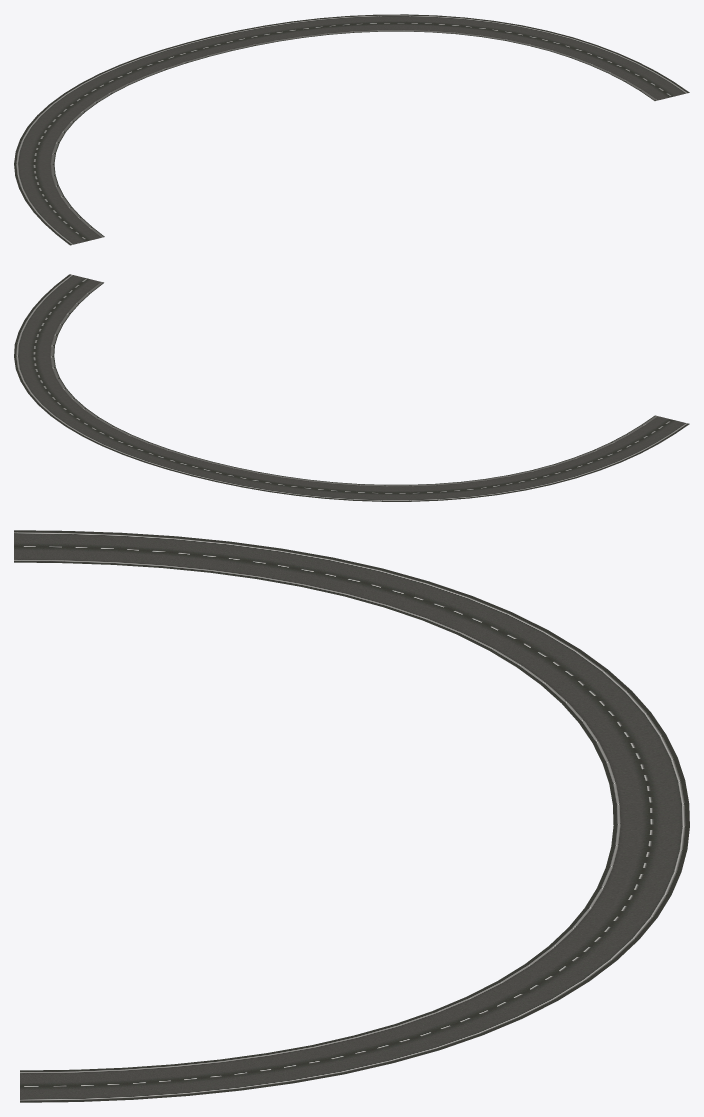
File: BigSving.fbx
3 renders of one model, top to bottom at view 1: azimuth 30°, elevation 25°; view 2: azimuth 150°, elevation 25°; view 3: azimuth 270°, elevation 25°, orthographic. The views are drawn at different scales.
Parts seen in each view (by area): view 1: Plane.005; view 2: Plane.005; view 3: Plane.005.
Part boxes in pixels (bbox=[...]): Plane.005: bbox=[14, 14, 689, 245]; Plane.005: bbox=[14, 274, 689, 501]; Plane.005: bbox=[14, 530, 689, 1102].
Size of the model in its own units: 12400 by 0.00014 by 6187.
